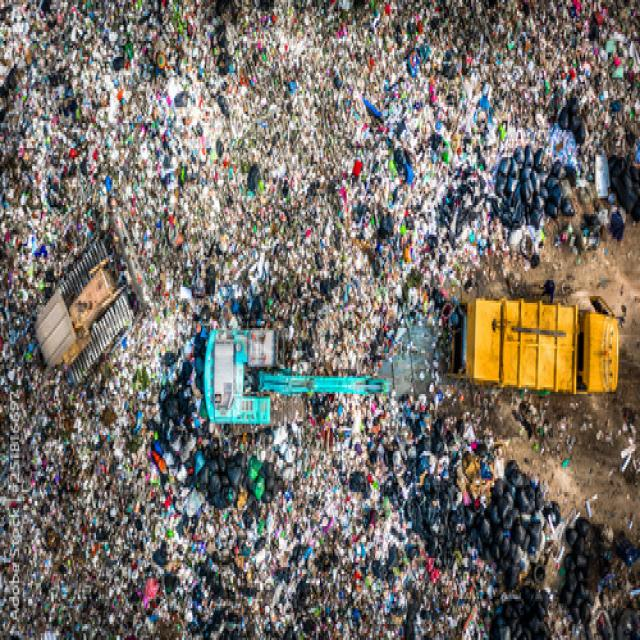trash: (27, 46, 470, 594)
